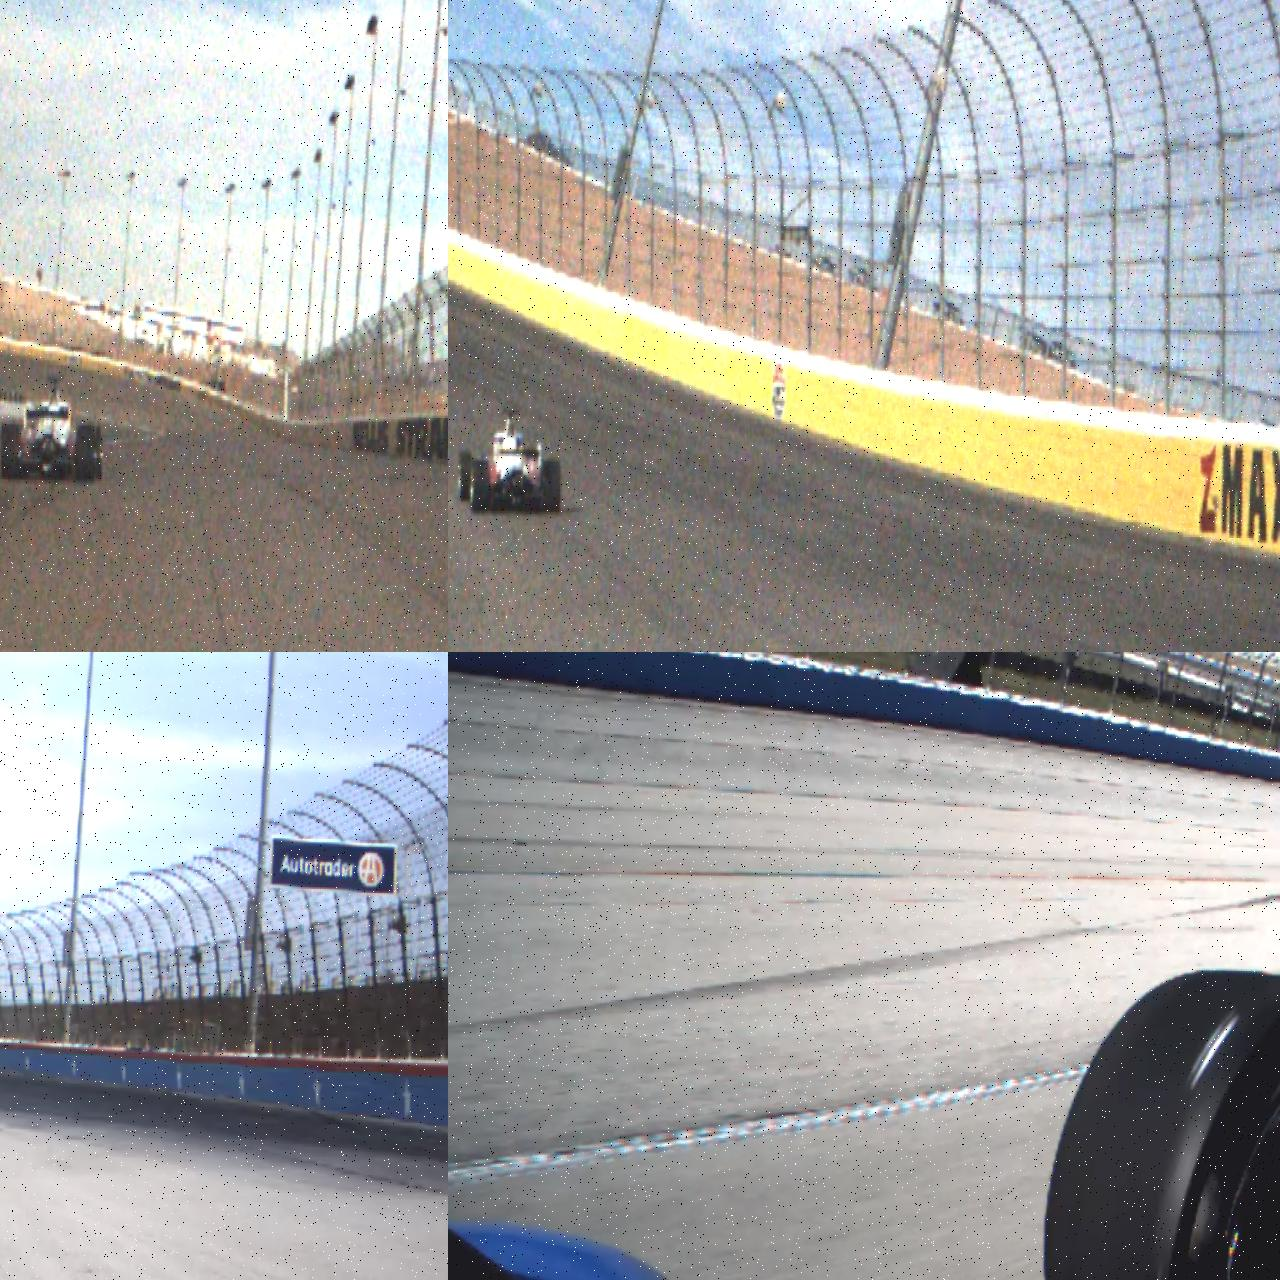AV: (457, 406, 563, 515), (0, 374, 105, 482)
Wheel: (1039, 968, 1280, 1280), (0, 424, 20, 479), (542, 459, 561, 515), (470, 459, 490, 513), (76, 425, 95, 481), (458, 450, 474, 502), (90, 427, 103, 478)
